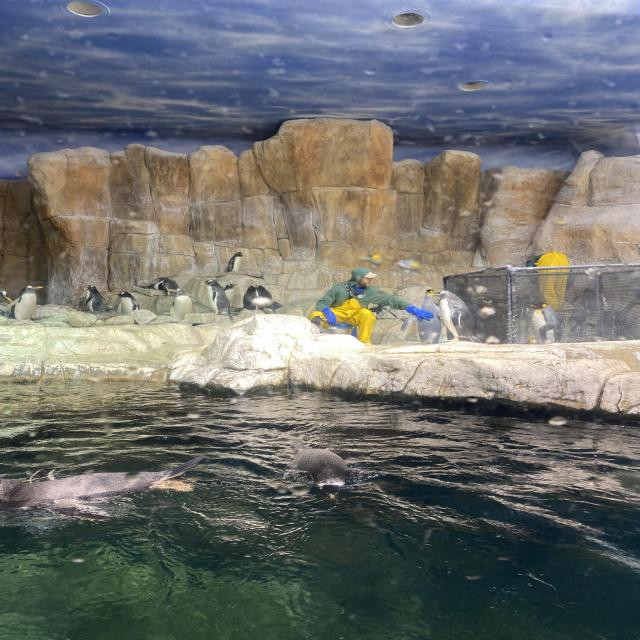penguin: (0, 458, 206, 520), (294, 445, 355, 501), (432, 289, 480, 343), (401, 289, 445, 343), (6, 285, 46, 323), (528, 302, 563, 343), (200, 278, 234, 320), (256, 285, 282, 314), (84, 284, 110, 312), (580, 288, 605, 315), (114, 292, 140, 314), (141, 278, 177, 292), (244, 284, 259, 310), (225, 282, 237, 310), (228, 251, 244, 272)
